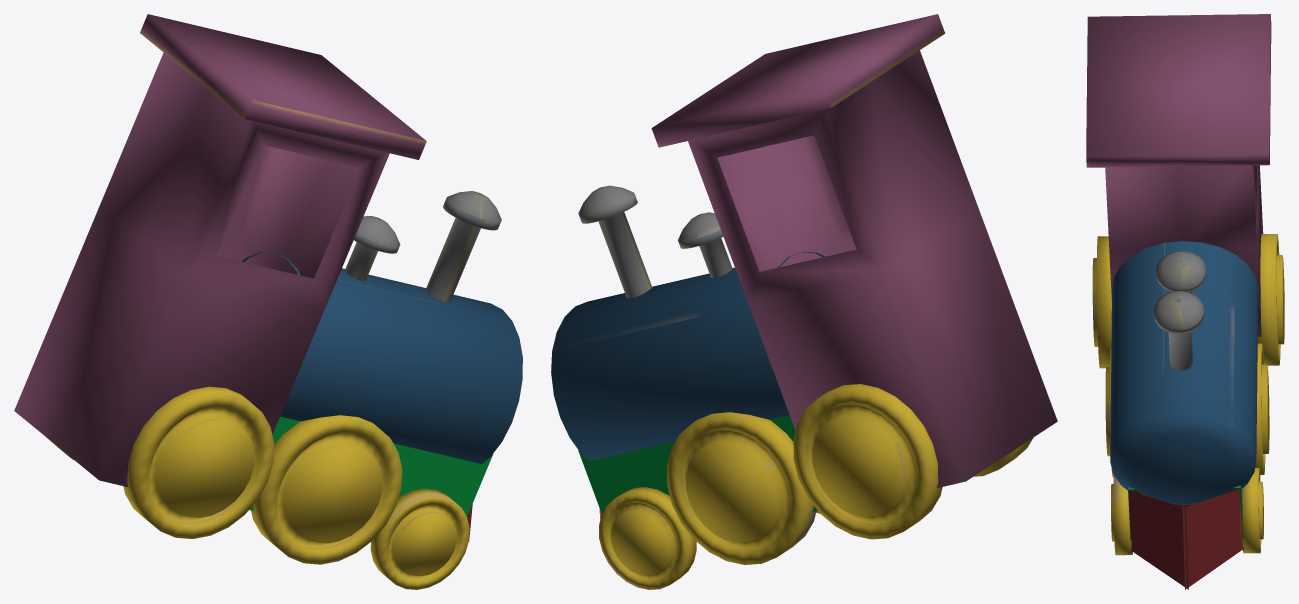
Rendered from Toy-Train-Holding.fbx.
The picture shows the model from 3 angles, left to right: view 1: azimuth 30°, elevation 25°; view 2: azimuth 150°, elevation 25°; view 3: azimuth 270°, elevation 25°; orthographic projection. The views are drawn at different scales.
Visible parts, largest first — view 1: Circle.001; view 2: Circle.001; view 3: Circle.001.
Part boxes in pixels (x1,y1,x2,y2): Circle.001: (14,14,522,589); Circle.001: (551,14,1057,589); Circle.001: (1086,14,1284,589).
Size of the model in its own units: 46.55 by 55.78 by 21.56.
1 material, 1 textured.
